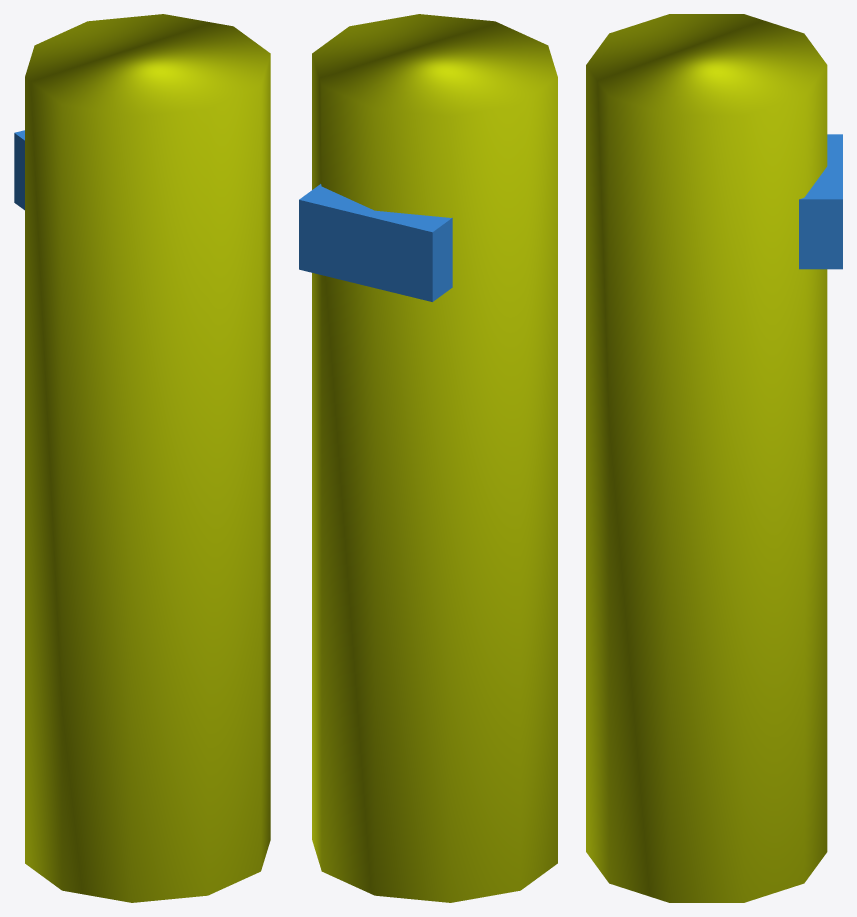
File: friend.glb
3 renders of one model, left to right at view 1: azimuth 30°, elevation 25°; view 2: azimuth 150°, elevation 25°; view 3: azimuth 270°, elevation 25°, orthographic.
Visible parts, largest first — view 1: Cylinder, Cube; view 2: Cylinder, Cube; view 3: Cylinder, Cube.
Part boxes in pixels (x1=…): Cylinder: x1=25, y1=14, x2=270, y2=902; Cube: x1=14, y1=130, x2=24, y2=210; Cylinder: x1=312, y1=14, x2=557, y2=902; Cube: x1=299, y1=184, x2=452, y2=301; Cylinder: x1=586, y1=14, x2=827, y2=902; Cube: x1=799, y1=134, x2=842, y2=269.
Size of the model in its own units: 0.5 by 1.8 by 0.5321.
